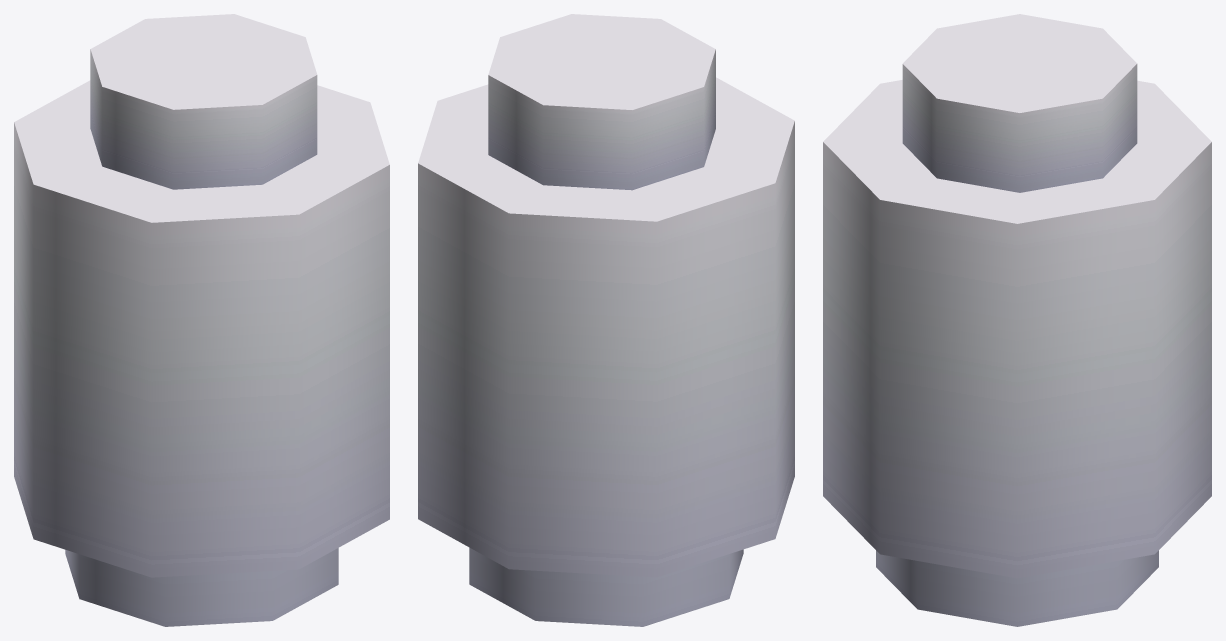
Rendered from round-lq-brick-1x1-round.glb.
3 renders of one model, left to right at view 1: azimuth 30°, elevation 25°; view 2: azimuth 150°, elevation 25°; view 3: azimuth 270°, elevation 25°, orthographic.
Visible parts, largest first — view 1: round-lq-brick-1x1-round; view 2: round-lq-brick-1x1-round; view 3: round-lq-brick-1x1-round.
Part boxes in pixels (x1=…): round-lq-brick-1x1-round: x1=14, y1=14, x2=389, y2=626; round-lq-brick-1x1-round: x1=418, y1=14, x2=794, y2=626; round-lq-brick-1x1-round: x1=823, y1=14, x2=1211, y2=626.
Size of the model in its own units: 0.0795 by 0.114 by 0.0795.
1 material, 1 textured.
